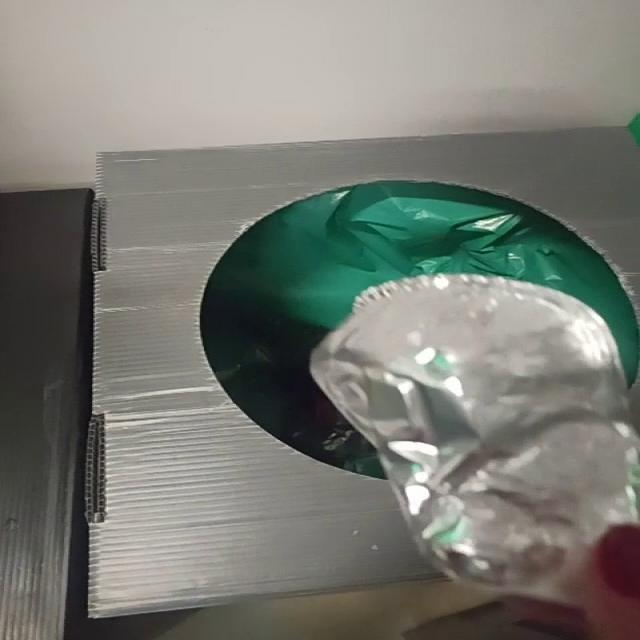Bin: (87, 128, 639, 618)
Metal: (312, 276, 639, 602)
